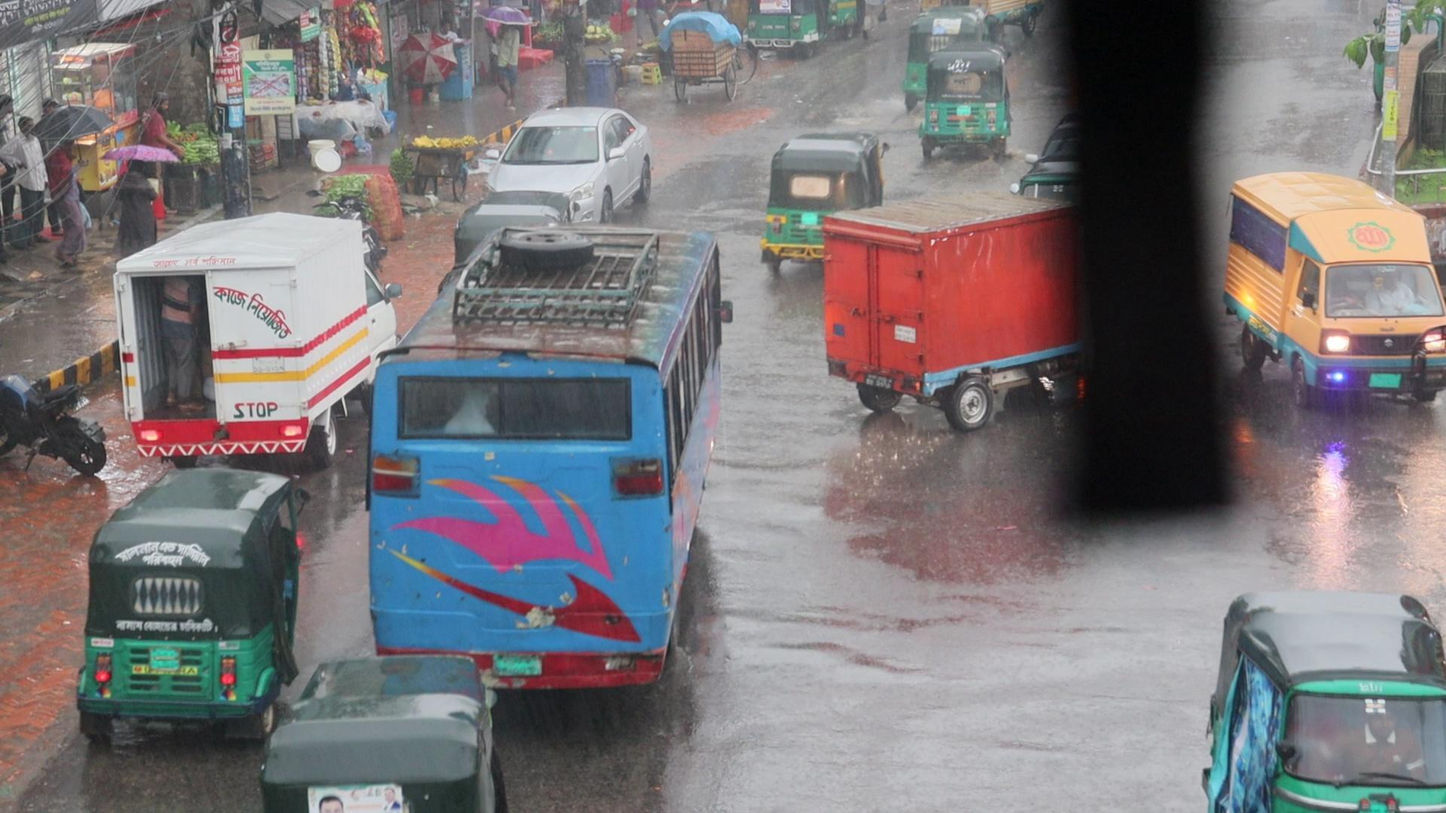Bus: (357, 220, 734, 679)
Truck: (1218, 161, 1446, 414)
